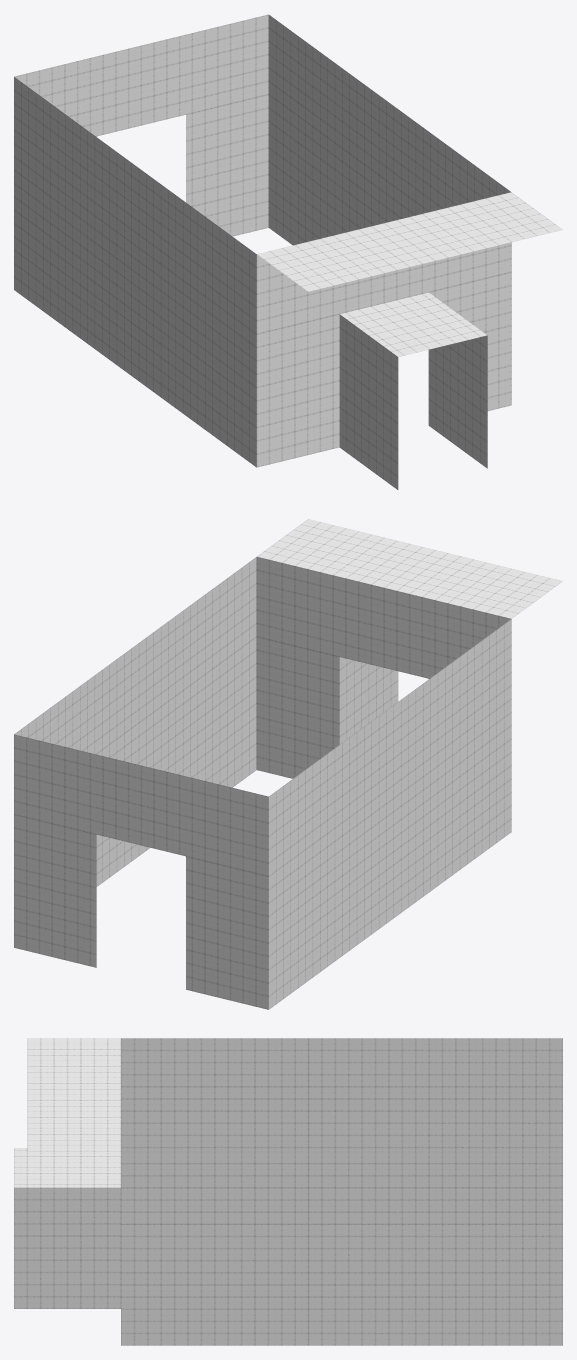
The model's file is EntranceHall.fbx.
3 renders of one model, top to bottom at view 1: azimuth 30°, elevation 25°; view 2: azimuth 150°, elevation 25°; view 3: azimuth 270°, elevation 25°, orthographic. The views are drawn at different scales.
Parts seen in each view (by area): view 1: Entrance Hall; view 2: Entrance Hall; view 3: Entrance Hall.
Boxes of the visible parts, x1,y1,x2,y2 form: Entrance Hall: (14,14,562,489); Entrance Hall: (14,519,562,1009); Entrance Hall: (14,1038,562,1345).
Size of the model in its own units: 2000 by 1600 by 4100.
